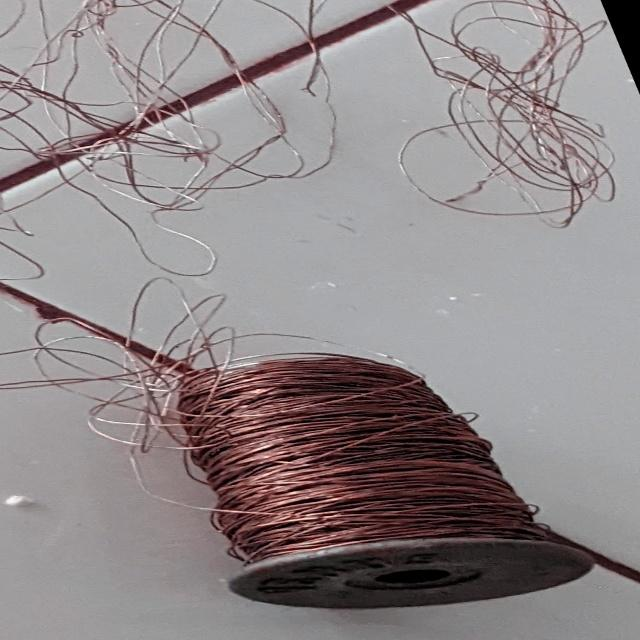Wire Coil: (53, 331, 640, 633)
